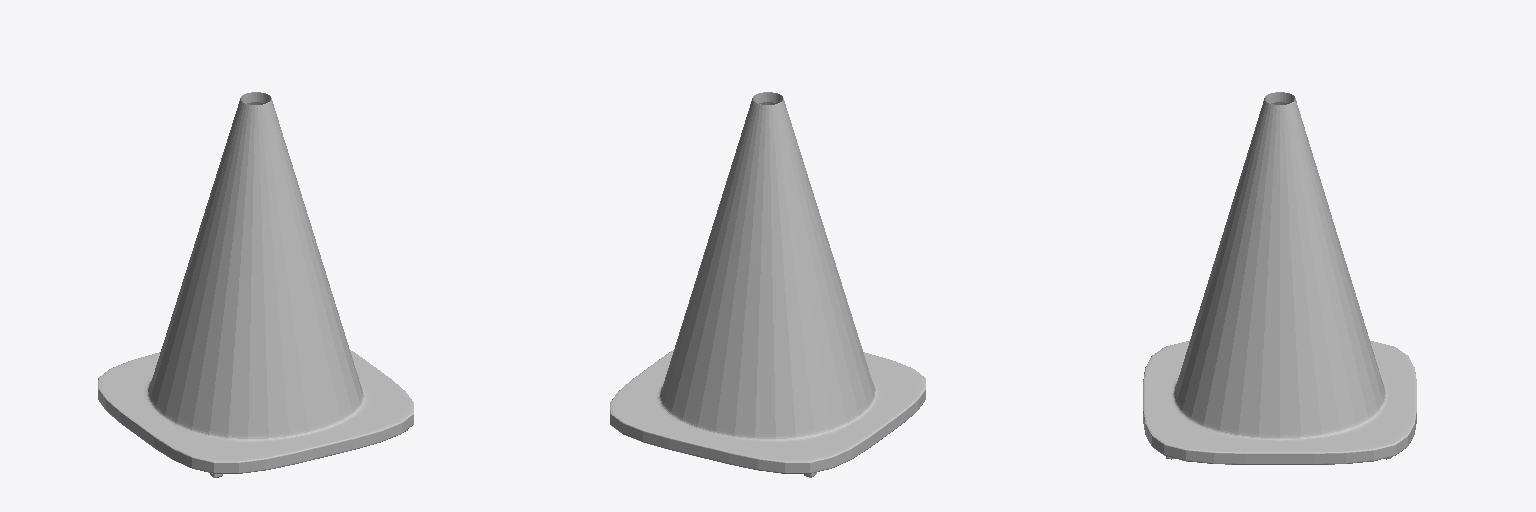
3 views of the same model, side by side, from view 1: azimuth 30°, elevation 25°; view 2: azimuth 150°, elevation 25°; view 3: azimuth 270°, elevation 25° (orthographic).
Parts seen in each view (by area): view 1: cone_worksite; view 2: cone_worksite; view 3: cone_worksite.
Part boxes in pixels (left/top/right/bottom): cone_worksite: left=98, top=92, right=413, bottom=477; cone_worksite: left=610, top=92, right=925, bottom=477; cone_worksite: left=1143, top=92, right=1416, bottom=464.
Size of the model in its own units: 2.44 by 3.1 by 2.44.